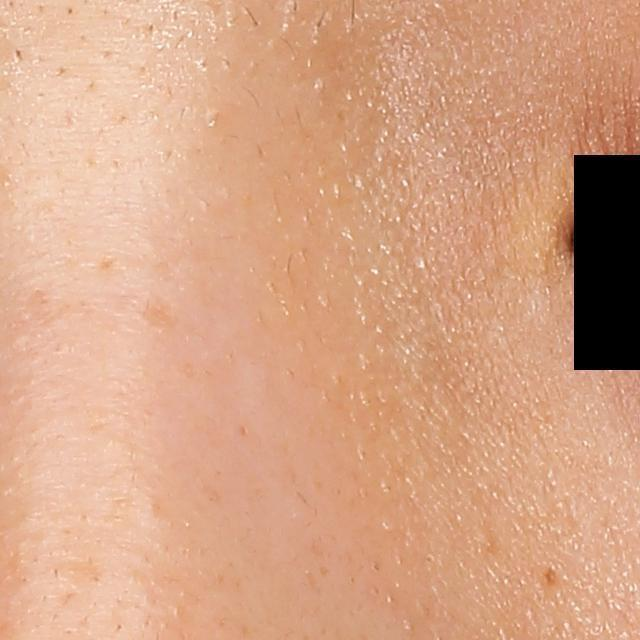melasma: (142, 293, 182, 332)
